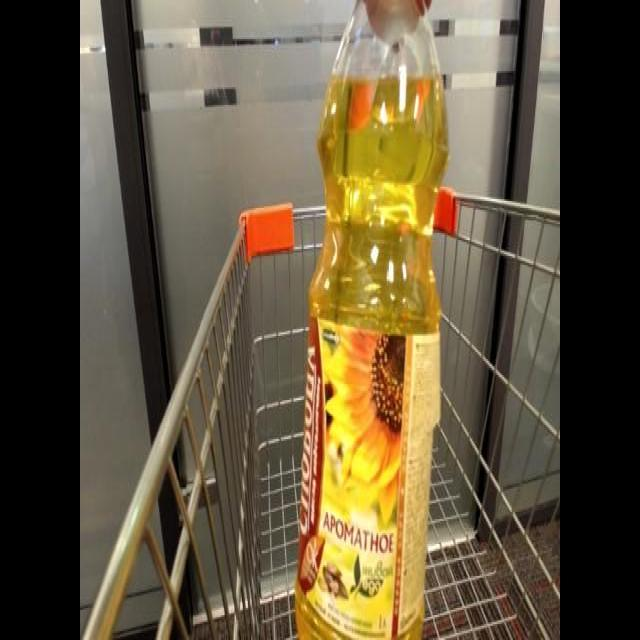Oil: (291, 2, 454, 640)
